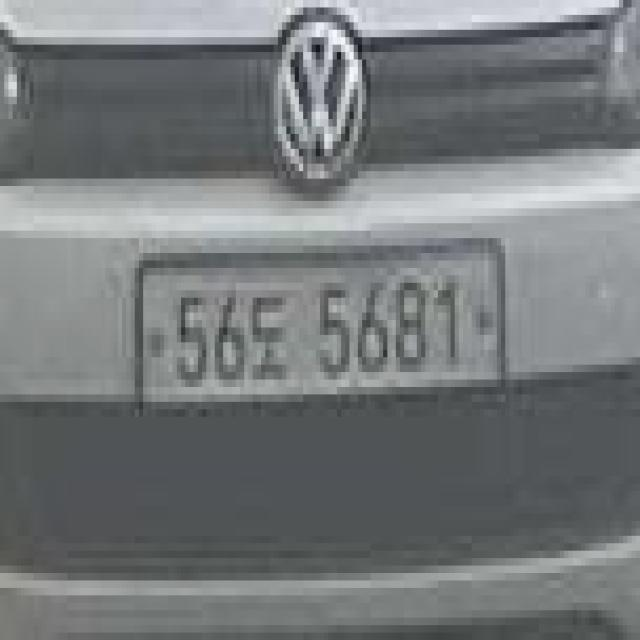illegal_plate: (130, 232, 514, 418)
